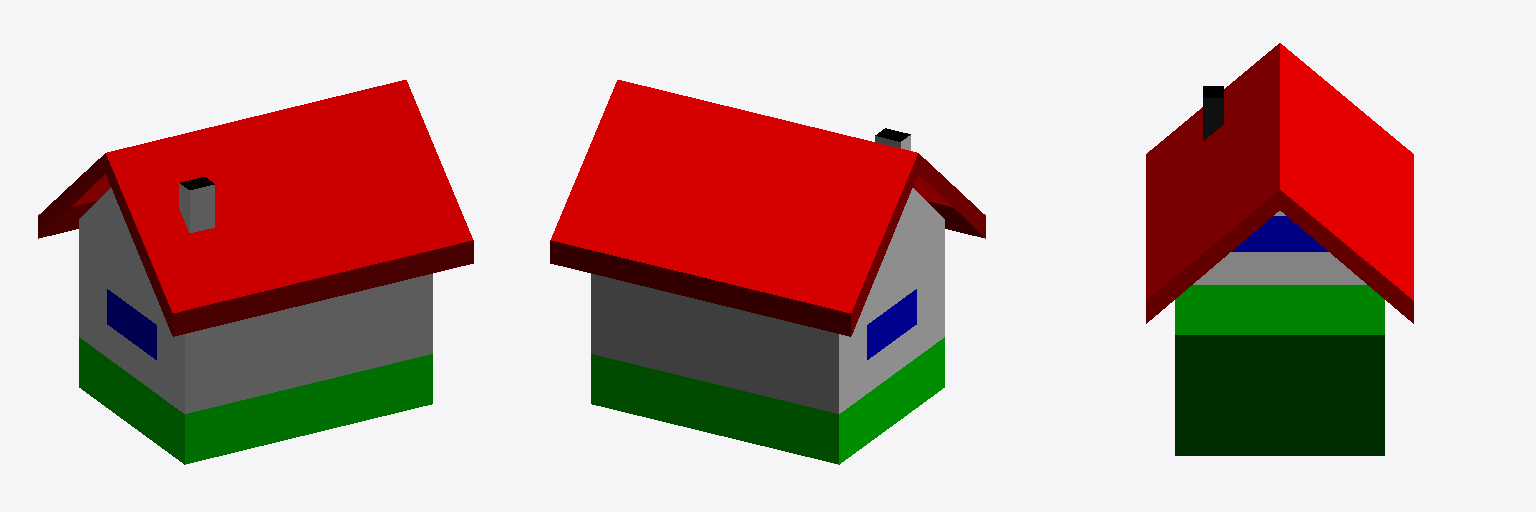
Rendered from gable_house.obj.
3 views of the same model, side by side, from view 1: azimuth 30°, elevation 25°; view 2: azimuth 150°, elevation 25°; view 3: azimuth 270°, elevation 25° (orthographic).
Parts seen in each view (by area): view 1: Cube_Cube.001; view 2: Cube_Cube.001; view 3: Cube_Cube.001.
Boxes of the visible parts, x1,y1,x2,y2 form: Cube_Cube.001: [38, 80, 473, 464]; Cube_Cube.001: [550, 80, 985, 464]; Cube_Cube.001: [1146, 43, 1413, 455].
Size of the model in its own units: 106 by 94.2 by 81.94.